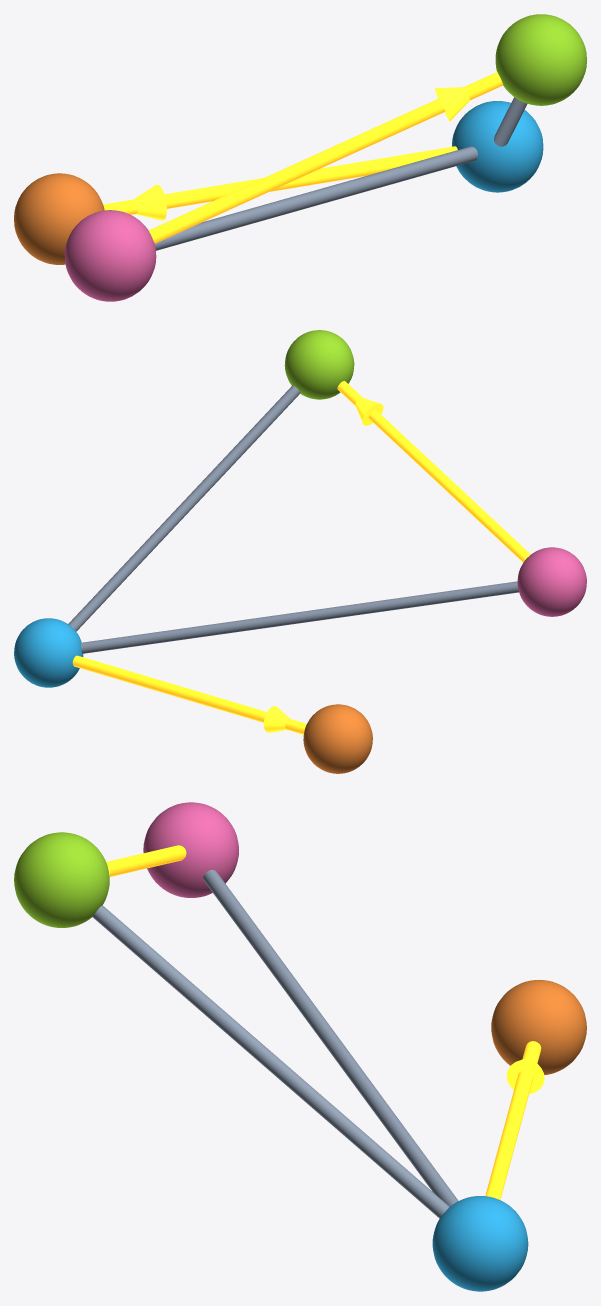
The model's file is asset.glb.
3 renders of one model, top to bottom at view 1: azimuth 30°, elevation 25°; view 2: azimuth 150°, elevation 25°; view 3: azimuth 270°, elevation 25°, orthographic. The views are drawn at different scales.
Parts seen in each view (by area): view 1: Node_2, Node_3, Node_1, Edge_2, Node_4, Edge_1, Edge_4, Edge_4_Arrow, Edge_3, Edge_2_Arrow; view 2: Edge_1, Edge_3, Node_2, Node_4, Node_3, Node_1, Edge_2, Edge_4; view 3: Edge_3, Node_1, Node_3, Node_4, Edge_1, Node_2, Edge_4, Edge_2, Edge_4_Arrow.
Boxes of the visible parts, x1,y1,x2,y2 form: Node_2: [64, 210, 156, 301]; Node_3: [495, 14, 586, 105]; Node_1: [452, 101, 543, 192]; Edge_2: [148, 72, 503, 243]; Node_4: [14, 173, 104, 264]; Edge_1: [155, 146, 477, 250]; Edge_4: [103, 146, 457, 214]; Edge_4_Arrow: [134, 184, 166, 220]; Edge_3: [494, 97, 527, 146]; Edge_2_Arrow: [434, 87, 469, 121]; Edge_1: [81, 581, 518, 653]; Edge_3: [68, 385, 300, 631]; Node_2: [517, 547, 586, 616]; Node_4: [303, 704, 372, 773]; Node_3: [284, 330, 354, 399]; Node_1: [14, 618, 83, 687]; Edge_2: [337, 381, 530, 562]; Edge_4: [72, 655, 306, 734]; Edge_3: [92, 905, 449, 1218]; Node_1: [432, 1196, 528, 1291]; Node_3: [14, 832, 109, 927]; Node_4: [491, 979, 586, 1074]; Edge_1: [203, 869, 458, 1206]; Node_2: [143, 802, 238, 897]; Edge_4: [485, 1041, 541, 1199]; Edge_2: [106, 845, 186, 876]; Edge_4_Arrow: [506, 1057, 544, 1093].
Size of the model in its own units: 8.37 by 4.69 by 6.58.
